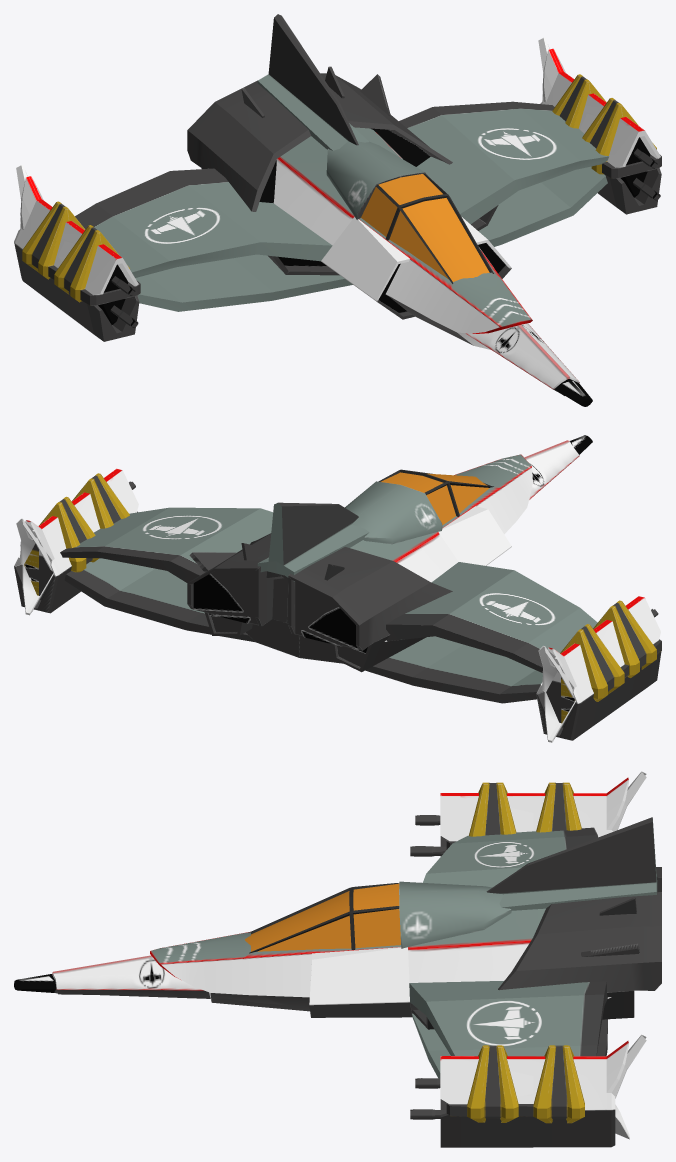
Rendered from Fighter.fbx.
3 views of the same model, one above another, from view 1: azimuth 30°, elevation 25°; view 2: azimuth 150°, elevation 25°; view 3: azimuth 270°, elevation 25° (orthographic). The views are drawn at different scales.
Parts seen in each view (by area): view 1: Fighter; view 2: Fighter; view 3: Fighter.
Part boxes in pixels (x1,y1,x2,y2): Fighter: [14, 14, 661, 406]; Fighter: [14, 435, 661, 742]; Fighter: [14, 771, 661, 1147].
Bounding box in the file's own units: 1662 × 507 × 1553.
